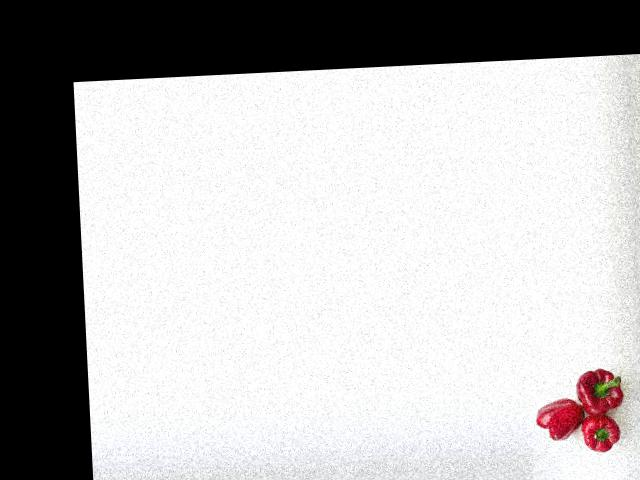bell_pepper: (529, 394, 587, 450)
